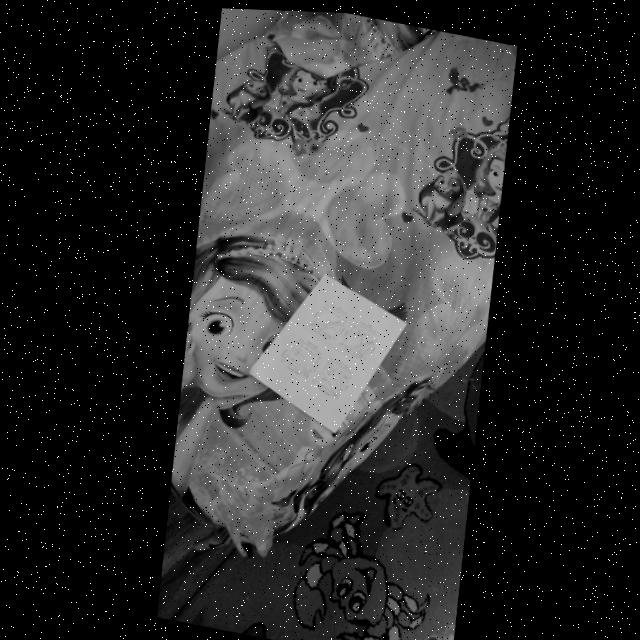document: (249, 275, 405, 432)
